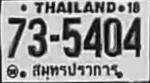0: (103, 17, 121, 56)
3: (27, 17, 46, 56)
4: (83, 16, 101, 56), (123, 16, 140, 56)
5: (62, 16, 80, 56)
7: (7, 17, 25, 57)
SPK: (29, 60, 120, 78)
